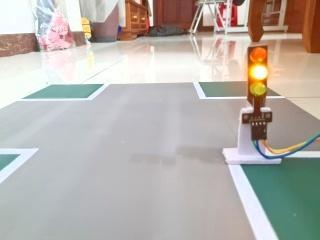yellow: (228, 33, 287, 107)
